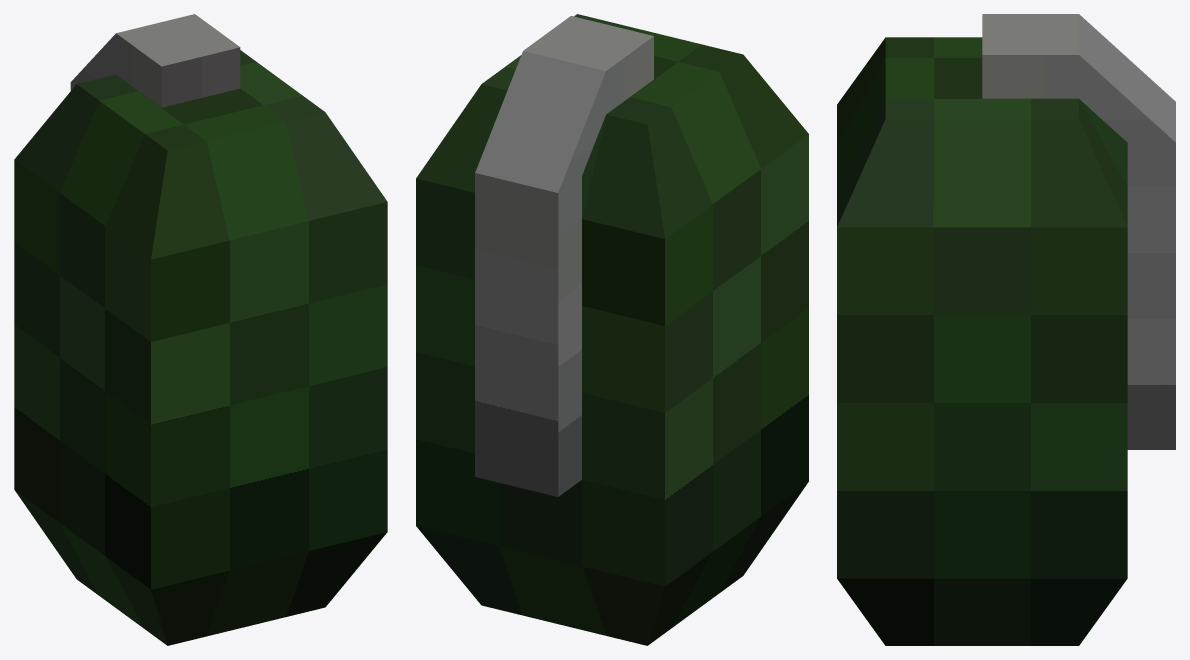
The model's file is grenade.obj.
The picture shows the model from 3 angles, left to right: view 1: azimuth 30°, elevation 25°; view 2: azimuth 150°, elevation 25°; view 3: azimuth 270°, elevation 25°; orthographic projection. The views are drawn at different scales.
Parts seen in each view (by area): view 1: group_0, group_1; view 2: group_0, group_1; view 3: group_0, group_1.
Boxes of the visible parts, x1=… form: group_0: x1=14, y1=50, x2=387, y2=645; group_1: x1=70, y1=14, x2=240, y2=107; group_0: x1=416, y1=14, x2=808, y2=645; group_1: x1=475, y1=16, x2=653, y2=496; group_0: x1=837, y1=37, x2=1127, y2=645; group_1: x1=982, y1=14, x2=1175, y2=449.
Bounding box in the file's own units: 0.1875 × 0.4062 × 0.2187.
